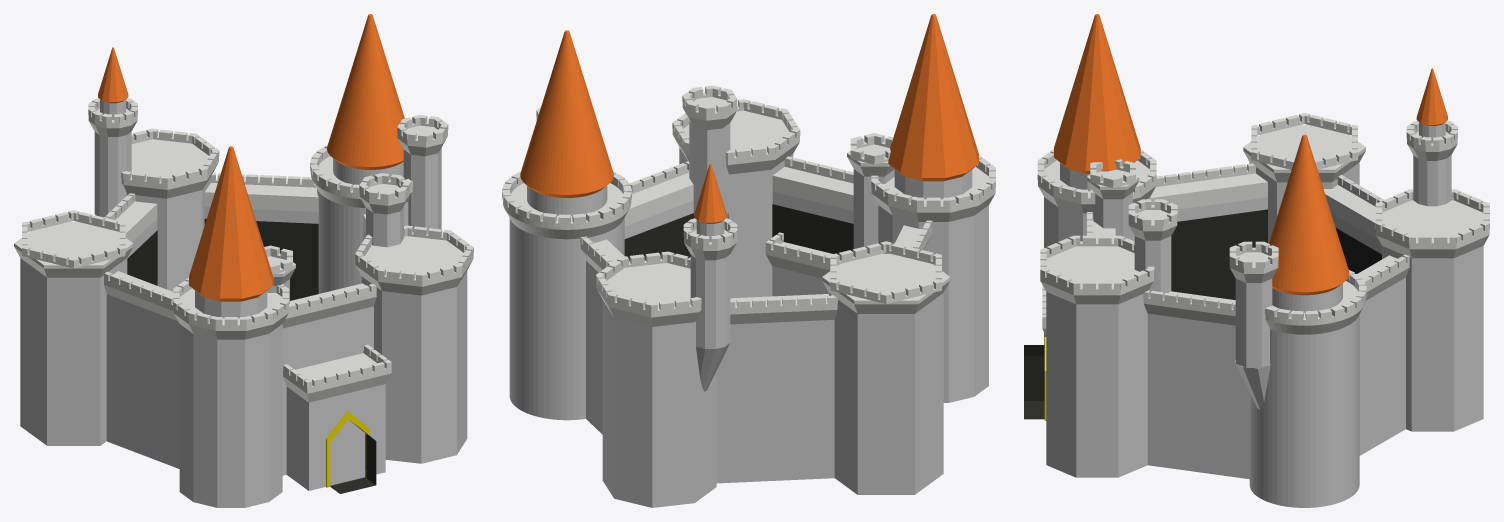
File: deck-fortress.glb
3 views of the same model, side by side, from view 1: azimuth 30°, elevation 25°; view 2: azimuth 150°, elevation 25°; view 3: azimuth 270°, elevation 25° (orthographic). The views are drawn at different scales.
Visible parts, largest first — view 1: right_rear_flat_plus_point_tower_body, hollow_pentagonal_curtain_wall, front_six_sided_flat_tower_body, rear_octagonal_flat_tower_body, front_square_gatehouse_body, right_rear_flat_plus_point_tower_roof_small_spire_spire, left_rear_round_flat_plus_point_tower_roof_small_spire_spire, left_front_octagonal_flat_tower_body, left_rear_round_flat_plus_point_tower_body, pentagonal_curtain_wall_wide_lower_wall_walk_shelf, rear_octagonal_flat_tower_roof_shallow_recess_floor, front_six_sided_flat_tower_roof_shallow_recess_floor (+23 smaller); view 2: hollow_pentagonal_curtain_wall, front_six_sided_flat_tower_body, left_front_octagonal_flat_tower_body, left_rear_round_flat_plus_point_tower_body, right_rear_flat_plus_point_tower_body, left_rear_round_flat_plus_point_tower_roof_small_spire_spire, right_rear_flat_plus_point_tower_roof_small_spire_spire, rear_octagonal_flat_tower_body, pentagonal_curtain_wall_wide_lower_wall_walk_shelf, front_six_sided_flat_tower_roof_shallow_recess_floor, left_front_octagonal_flat_tower_child_turret_body, pentagonal_curtain_wall_flared_wall_walk_base (+22 smaller); view 3: hollow_pentagonal_curtain_wall, left_rear_round_flat_plus_point_tower_body, rear_octagonal_flat_tower_body, left_front_octagonal_flat_tower_body, right_rear_flat_plus_point_tower_roof_small_spire_spire, left_rear_round_flat_plus_point_tower_roof_small_spire_spire, courtyard_dark_inner_wall_2, pentagonal_curtain_wall_wide_lower_wall_walk_shelf, left_front_octagonal_flat_tower_roof_shallow_recess_floor, rear_octagonal_flat_tower_roof_shallow_recess_floor, pentagonal_curtain_wall_flared_wall_walk_base, left_rear_round_flat_plus_point_tower_child_turret_body (+22 smaller).
Boxes of the visible parts, box(x1,y1,x2,y2) form: right_rear_flat_plus_point_tower_body: box(179, 324, 282, 507); hollow_pentagonal_curtain_wall: box(106, 207, 373, 475); front_six_sided_flat_tower_body: box(20, 258, 127, 445); rear_octagonal_flat_tower_body: box(361, 271, 467, 463); front_square_gatehouse_body: box(286, 384, 385, 490); right_rear_flat_plus_point_tower_roof_small_spire_spire: box(189, 146, 272, 298); left_rear_round_flat_plus_point_tower_roof_small_spire_spire: box(327, 14, 404, 166); left_front_octagonal_flat_tower_body: box(126, 177, 210, 291); left_rear_round_flat_plus_point_tower_body: box(317, 188, 408, 293); pentagonal_curtain_wall_wide_lower_wall_walk_shelf: box(104, 183, 376, 318); rear_octagonal_flat_tower_roof_shallow_recess_floor: box(355, 236, 473, 286); front_six_sided_flat_tower_roof_shallow_recess_floor: box(14, 221, 133, 268); hollow_pentagonal_curtain_wall: box(586, 191, 926, 483); front_six_sided_flat_tower_body: box(829, 293, 943, 494); left_front_octagonal_flat_tower_body: box(602, 300, 716, 507); left_rear_round_flat_plus_point_tower_body: box(509, 218, 624, 420); right_rear_flat_plus_point_tower_body: box(878, 205, 988, 402); left_rear_round_flat_plus_point_tower_roof_small_spire_spire: box(520, 30, 613, 194); right_rear_flat_plus_point_tower_roof_small_spire_spire: box(888, 14, 978, 177); rear_octagonal_flat_tower_body: box(679, 148, 793, 298); pentagonal_curtain_wall_wide_lower_wall_walk_shelf: box(580, 167, 932, 314); front_six_sided_flat_tower_roof_shallow_recess_floor: box(822, 253, 950, 304); left_front_octagonal_flat_tower_child_turret_body: box(690, 254, 730, 348); pentagonal_curtain_wall_flared_wall_walk_base: box(581, 179, 929, 324); hollow_pentagonal_curtain_wall: box(1147, 197, 1405, 479); left_rear_round_flat_plus_point_tower_body: box(1249, 314, 1359, 507); rear_octagonal_flat_tower_body: box(1046, 292, 1147, 477); left_front_octagonal_flat_tower_body: box(1382, 246, 1483, 431); right_rear_flat_plus_point_tower_roof_small_spire_spire: box(1054, 14, 1140, 170); left_rear_round_flat_plus_point_tower_roof_small_spire_spire: box(1269, 134, 1349, 292); courtyard_dark_inner_wall_2: box(1171, 209, 1267, 299); pentagonal_curtain_wall_wide_lower_wall_walk_shelf: box(1092, 173, 1409, 316); left_front_octagonal_flat_tower_roof_shallow_recess_floor: box(1376, 200, 1489, 249); rear_octagonal_flat_tower_roof_shallow_recess_floor: box(1040, 246, 1153, 295); pentagonal_curtain_wall_flared_wall_walk_base: box(1144, 185, 1409, 325); left_rear_round_flat_plus_point_tower_child_turret_body: box(1235, 279, 1272, 367).
Bounding box in the file's own units: 99.7 × 80.58 × 97.39.
